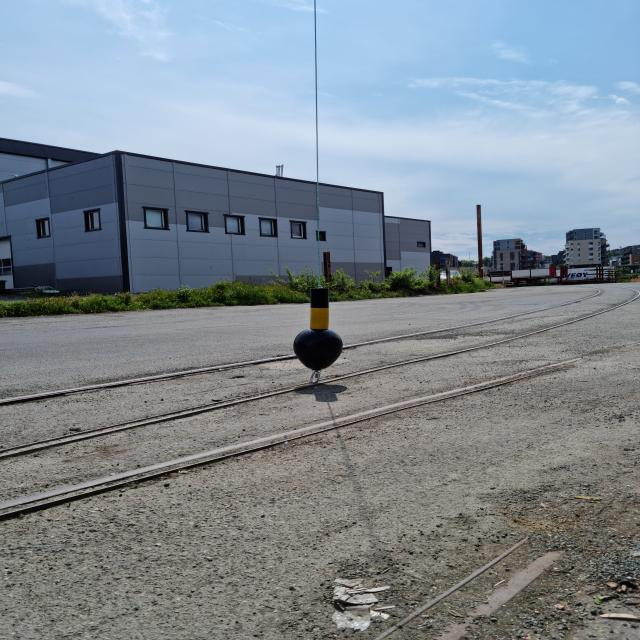east: (296, 288, 342, 370)
